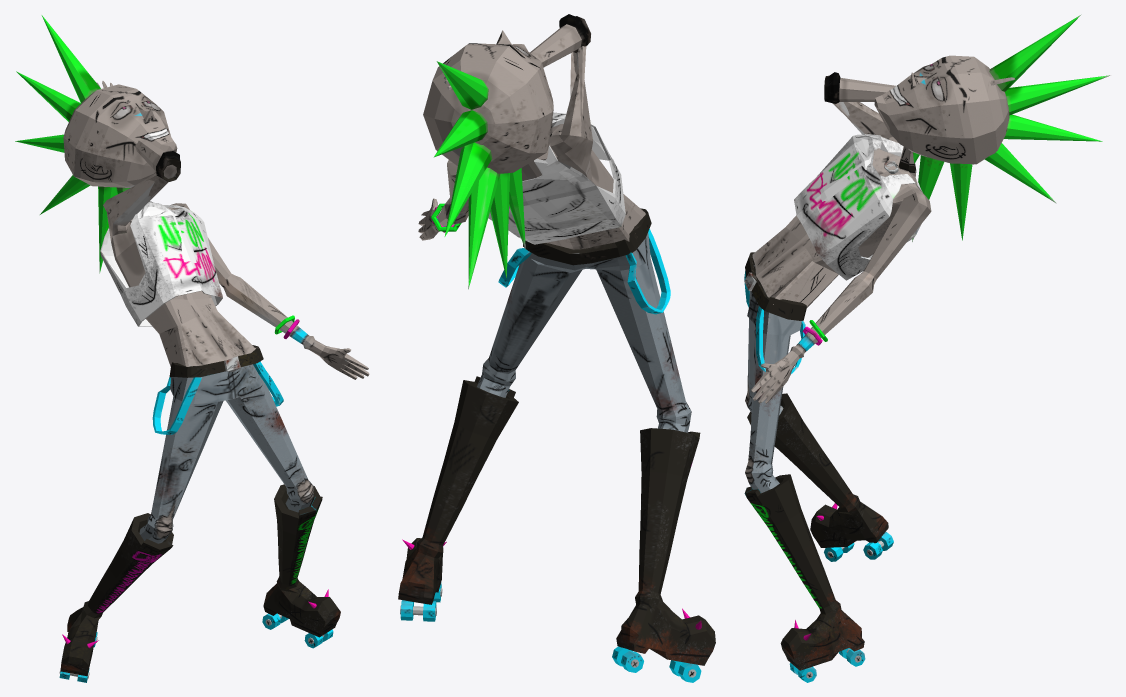
The model's file is punkAnimation_000087.obj.
3 renders of one model, left to right at view 1: azimuth 30°, elevation 25°; view 2: azimuth 150°, elevation 25°; view 3: azimuth 270°, elevation 25°, orthographic. The views are drawn at different scales.
Parts seen in each view (by area): view 1: Cube.004_Cube.003; view 2: Cube.004_Cube.003; view 3: Cube.004_Cube.003.
Part boxes in pixels (<box>): Cube.004_Cube.003: <box>15,15,369,682</box>; Cube.004_Cube.003: <box>398,14,715,682</box>; Cube.004_Cube.003: <box>744,14,1110,682</box>.
Bounding box in the file's own units: 3.05 × 6.04 × 3.41.
